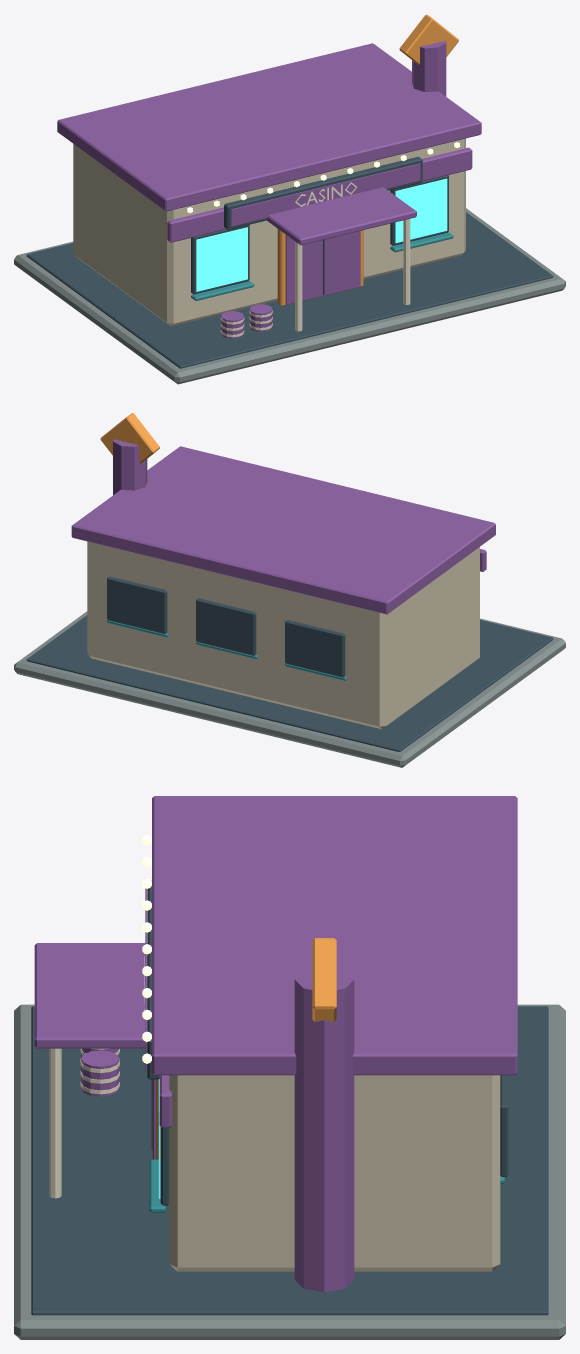
The model's file is casino.glb.
The picture shows the model from 3 angles, top to bottom: view 1: azimuth 30°, elevation 25°; view 2: azimuth 150°, elevation 25°; view 3: azimuth 270°, elevation 25°; orthographic projection. The views are drawn at different scales.
Parts seen in each view (by area): view 1: casino; view 2: casino; view 3: casino.
Part boxes in pixels (x1,y1,x2,y2): casino: (14,14,565,384); casino: (14,413,565,767); casino: (14,796,565,1339).
Size of the model in its own units: 11 by 5.85 by 8.
